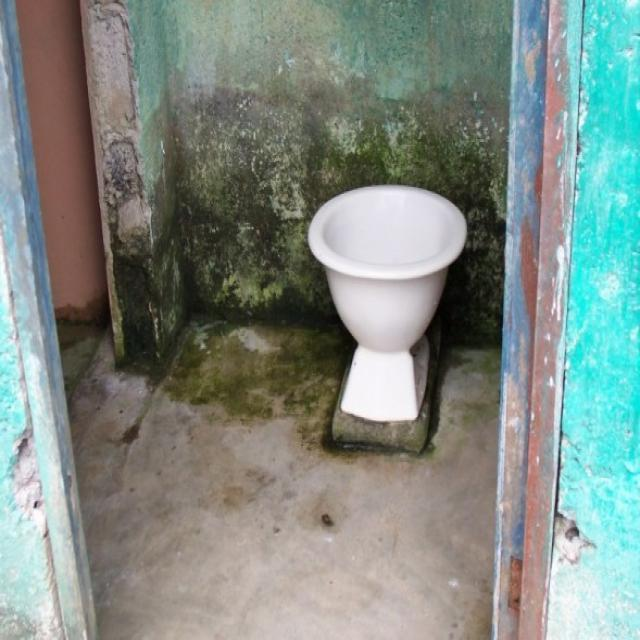mold_or_mildew: (154, 157, 289, 414), (305, 94, 496, 171)
